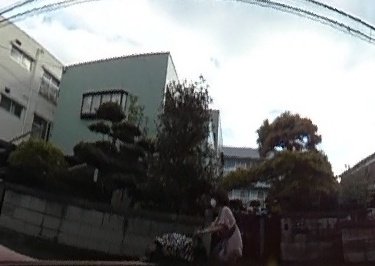person: (206, 191, 242, 266)
